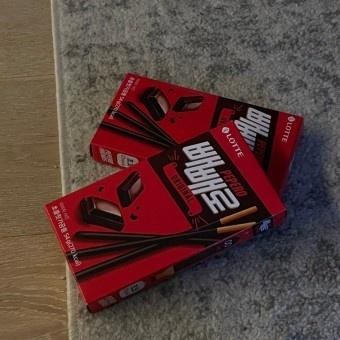snack: (42, 119, 287, 315)
